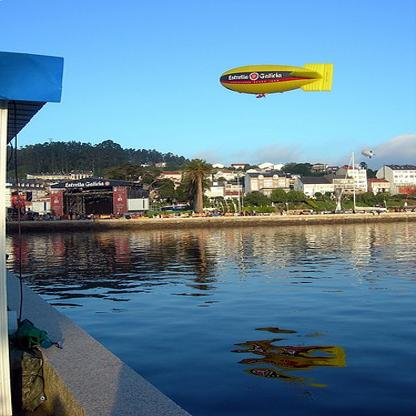Airship: (216, 59, 340, 104)
